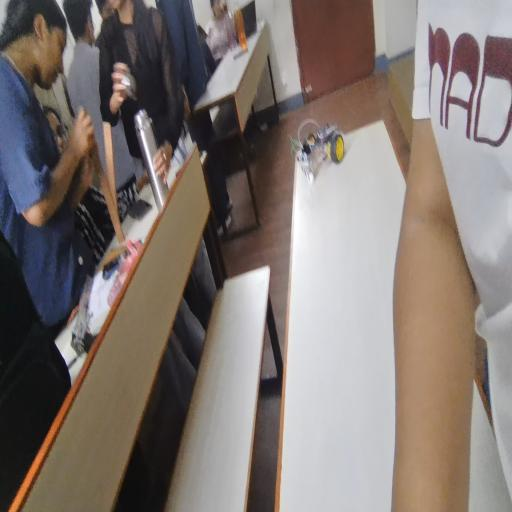car: (288, 112, 365, 207)
